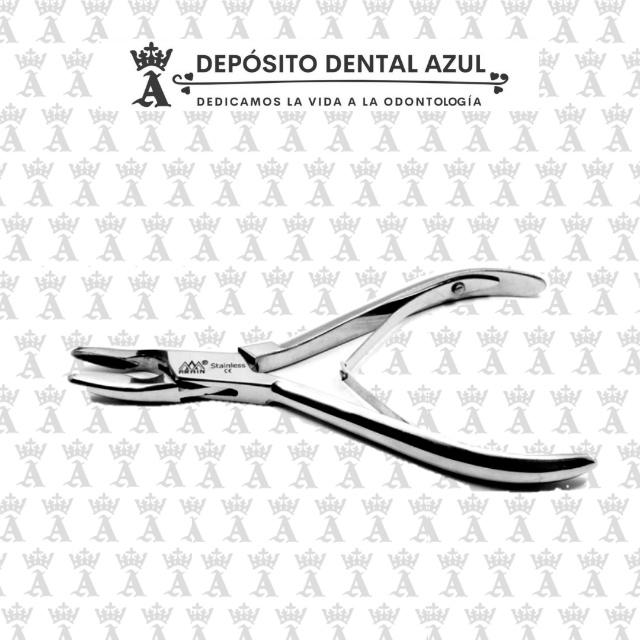gubia: (68, 264, 597, 494)
